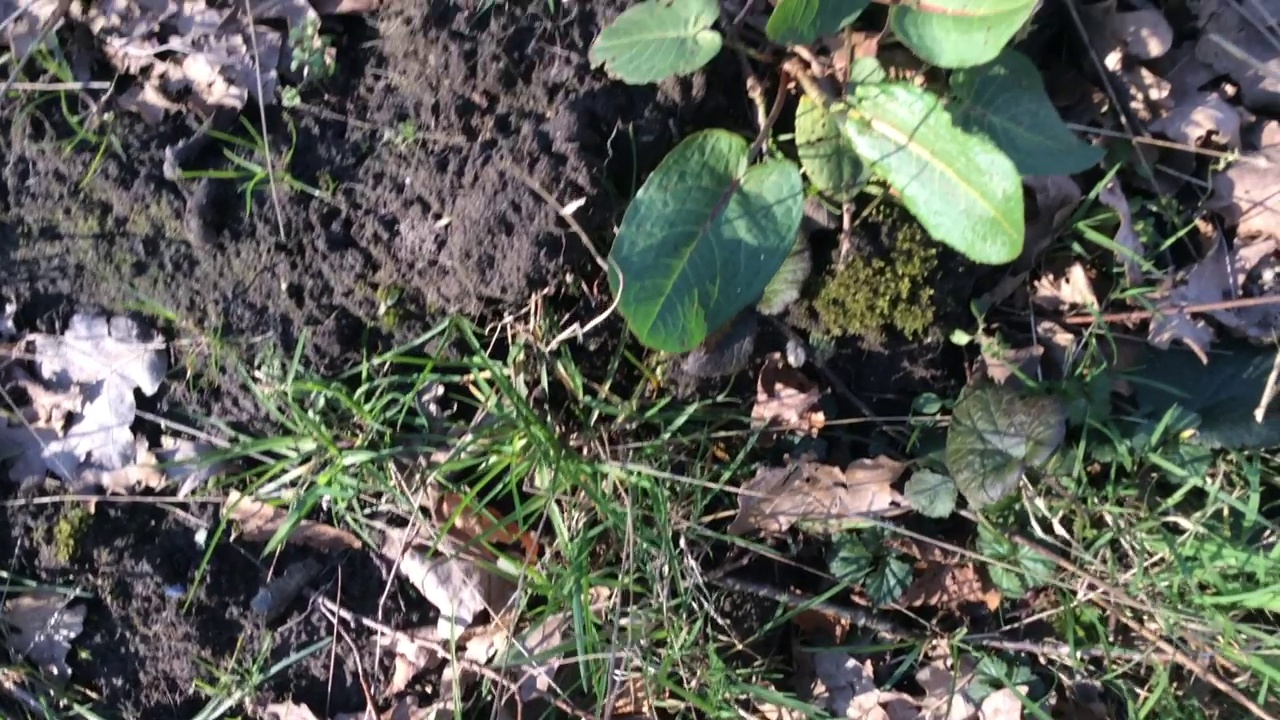rumex: (588, 1, 1108, 354)
